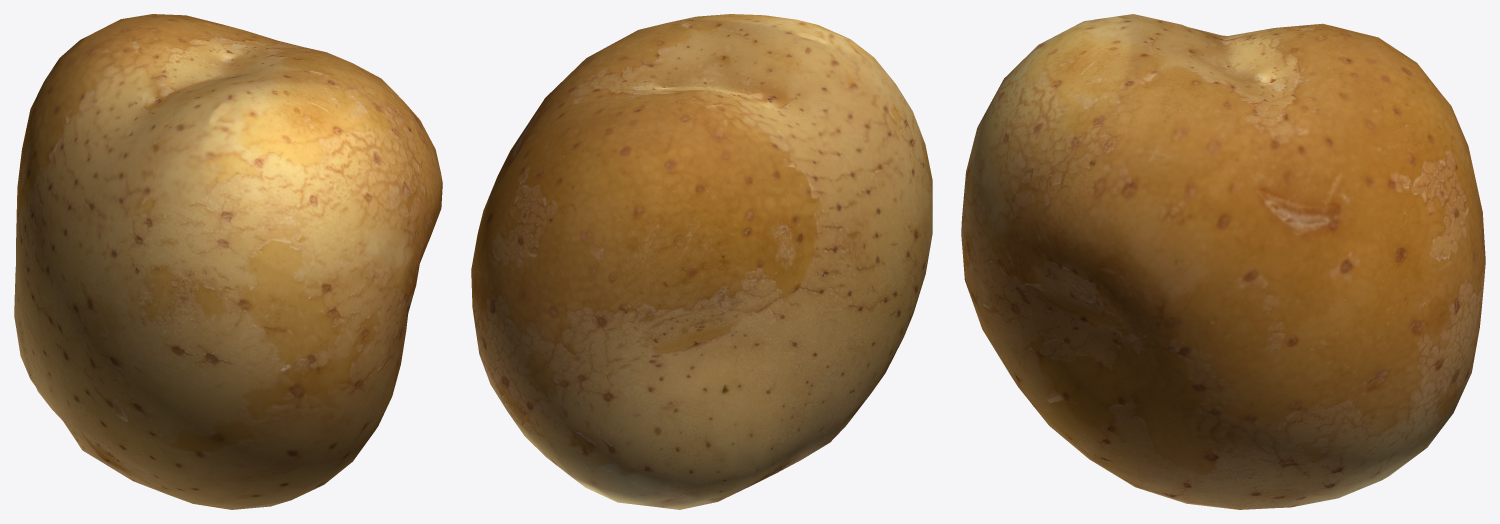
Rendered from potato.glb.
3 views of the same model, side by side, from view 1: azimuth 30°, elevation 25°; view 2: azimuth 150°, elevation 25°; view 3: azimuth 270°, elevation 25° (orthographic). The views are drawn at different scales.
Visible parts, largest first — view 1: potato; view 2: potato; view 3: potato.
Boxes of the visible parts, bbox=[...] form: potato: bbox=[14, 14, 442, 509]; potato: bbox=[471, 14, 932, 509]; potato: bbox=[961, 14, 1485, 509].
Bounding box in the file's own units: 1.85 × 2.11 × 2.21.
Materials: 1 (1 with a texture image).
